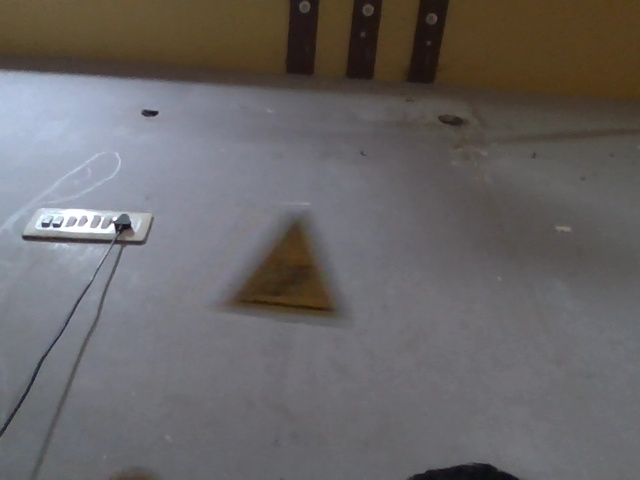workinprogress: (214, 174, 349, 349)
